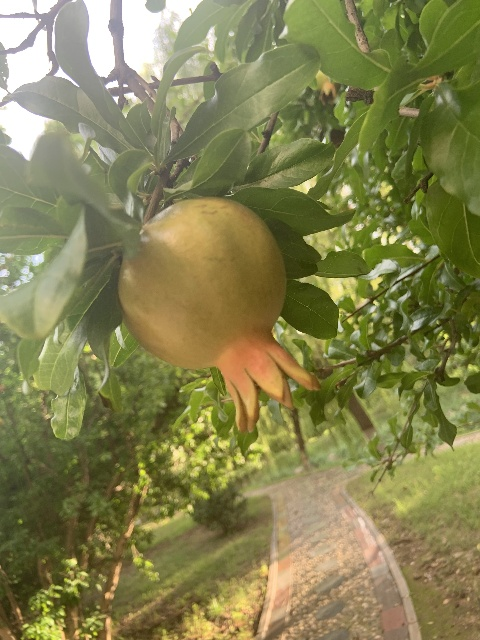mid-growth: (117, 197, 319, 434)
